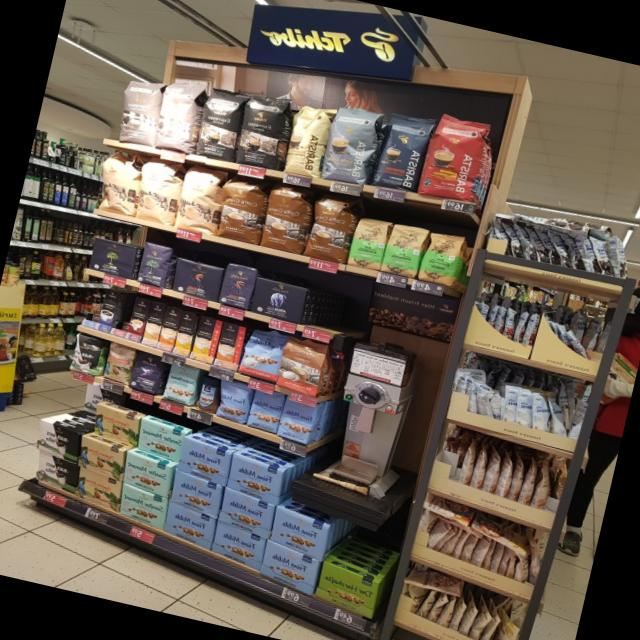AB Gemahlen: (248, 277, 308, 324)
Athiopien Bohne: (416, 226, 466, 288)
Athiopien Gemahlen: (379, 220, 428, 280), (346, 212, 392, 272)
BM Bohne: (134, 241, 174, 288)
BM Gemahlen: (85, 236, 138, 280)
BW Bohne: (66, 332, 106, 377)
BW Gemahlen: (35, 418, 80, 463), (34, 450, 79, 492)
Barista CB: (280, 99, 336, 180)
Barista CC: (318, 99, 387, 189)
Barista Espresso: (370, 106, 436, 195)
Barista Kolumbien: (416, 108, 502, 208)
C Fino Bohne: (126, 352, 166, 396)
CC Mild: (148, 70, 210, 158), (111, 72, 166, 148), (172, 161, 227, 235), (131, 154, 187, 226), (92, 146, 144, 216)
CC Vollmundig: (276, 335, 330, 397)
CC Vollmundig 36 Pads: (212, 170, 270, 246), (258, 180, 316, 254), (302, 189, 358, 264)
Colombia BB Bohne: (100, 342, 136, 384)
Colombia BB Gemahlen: (76, 435, 123, 483), (73, 466, 121, 512), (91, 403, 138, 449)
Empty Shelf: (112, 293, 134, 331), (84, 284, 104, 322)
Espresso Kraftig: (232, 89, 294, 172), (192, 81, 250, 164)
FM 36 Pads: (237, 327, 288, 382)
FM Bohne: (275, 398, 319, 446), (244, 388, 286, 432), (214, 380, 252, 424)
FM Gemahlen: (268, 503, 329, 560), (258, 540, 318, 595), (225, 453, 282, 506), (209, 518, 265, 571), (216, 486, 272, 538), (175, 435, 230, 487), (162, 500, 216, 551), (168, 469, 221, 520)
FM Instant: (192, 378, 222, 414)
Herzhatfe Mundig: (315, 561, 378, 620)
LG Bohne: (215, 260, 259, 311)
LG Gemahlen: (169, 256, 224, 302)
SM Bohne: (160, 362, 200, 406)
SM Gemahlen: (122, 450, 170, 498), (118, 483, 167, 530), (136, 419, 184, 463)
Simo CCMild: (190, 315, 222, 364)
Simo CCMild bigpack: (172, 311, 197, 357)
Simo CCVollmundig: (213, 322, 246, 371)
Simo CCVollmundig bigpack: (155, 306, 182, 352)
Simo Decaff: (140, 300, 166, 347)
Simo Es Caramel: (124, 296, 151, 343)
Simo Es Kraft: (95, 288, 120, 332)
